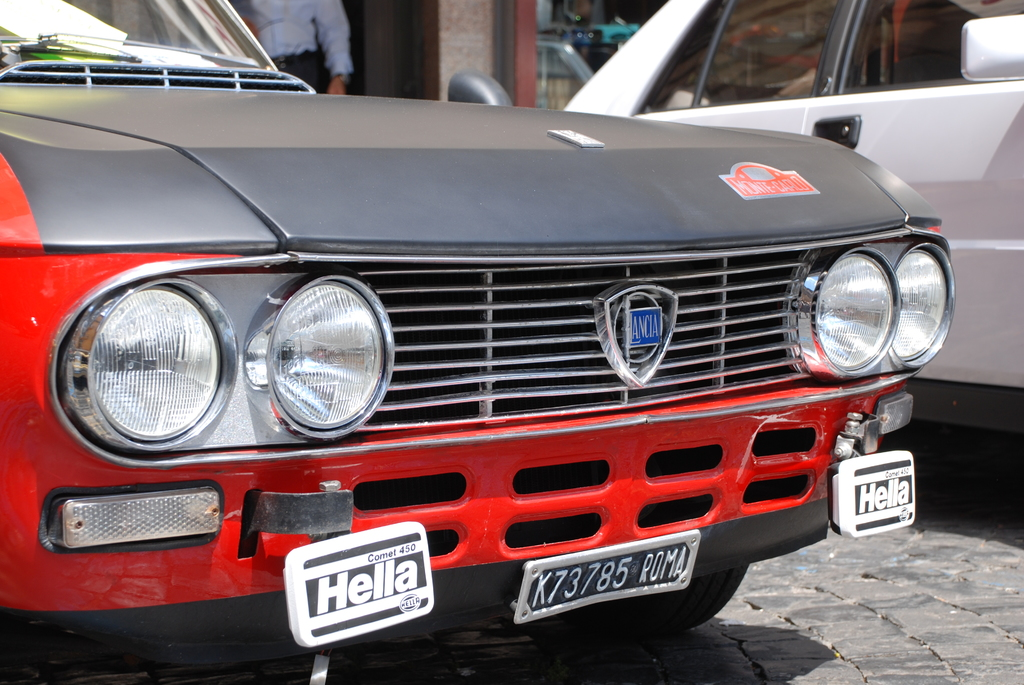person: (231, 0, 356, 95)
